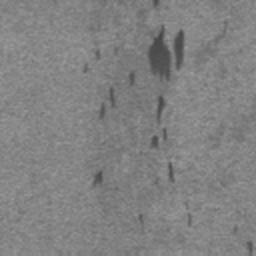Red iron sheet: (146, 26, 186, 83), (148, 95, 169, 150), (99, 87, 116, 120), (91, 170, 104, 188), (168, 163, 175, 183), (127, 73, 136, 87), (246, 241, 253, 255), (187, 214, 193, 228), (82, 64, 90, 74), (152, 0, 160, 8)
